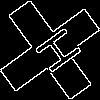H: (25, 25, 84, 81)
